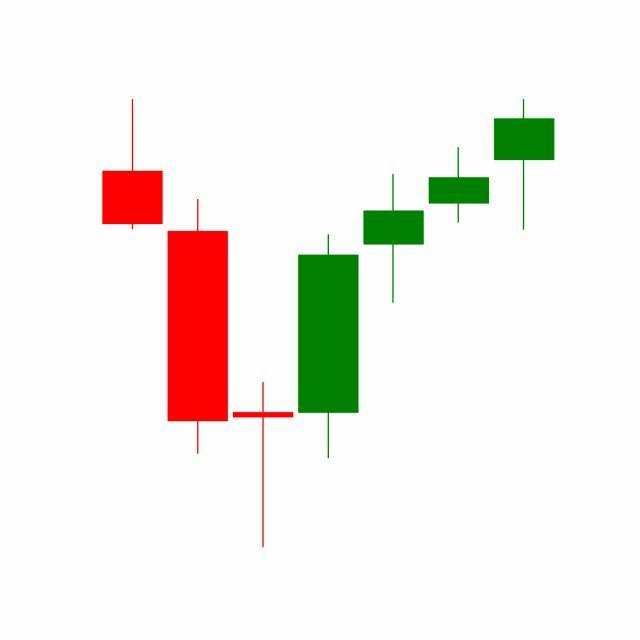Advance Block: (295, 145, 492, 463)
